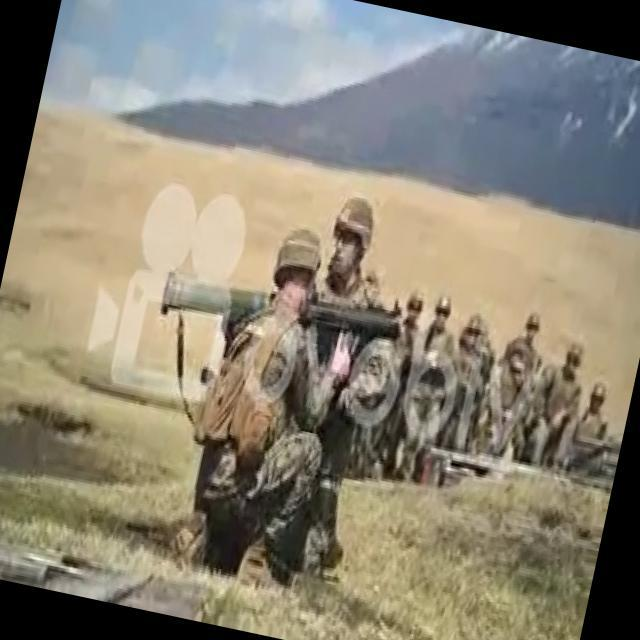rocket: (158, 257, 402, 361)
